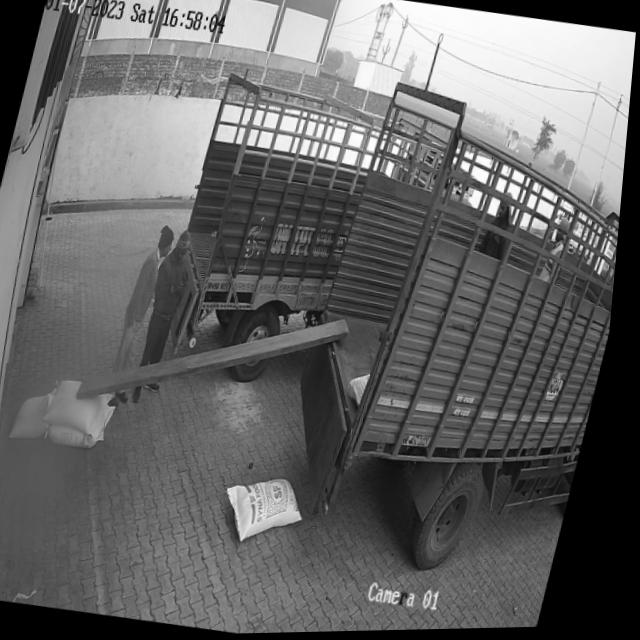sack: (222, 470, 321, 553), (49, 378, 123, 440), (49, 396, 123, 451), (14, 387, 65, 445)
